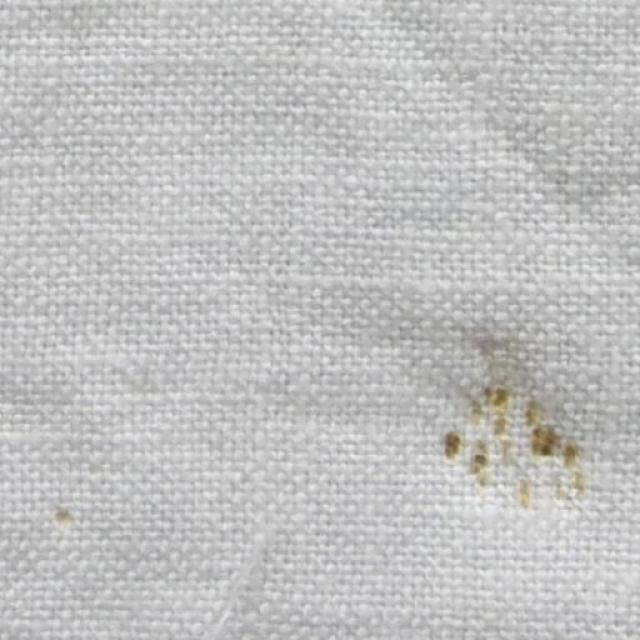Stain: (432, 345, 576, 511)
